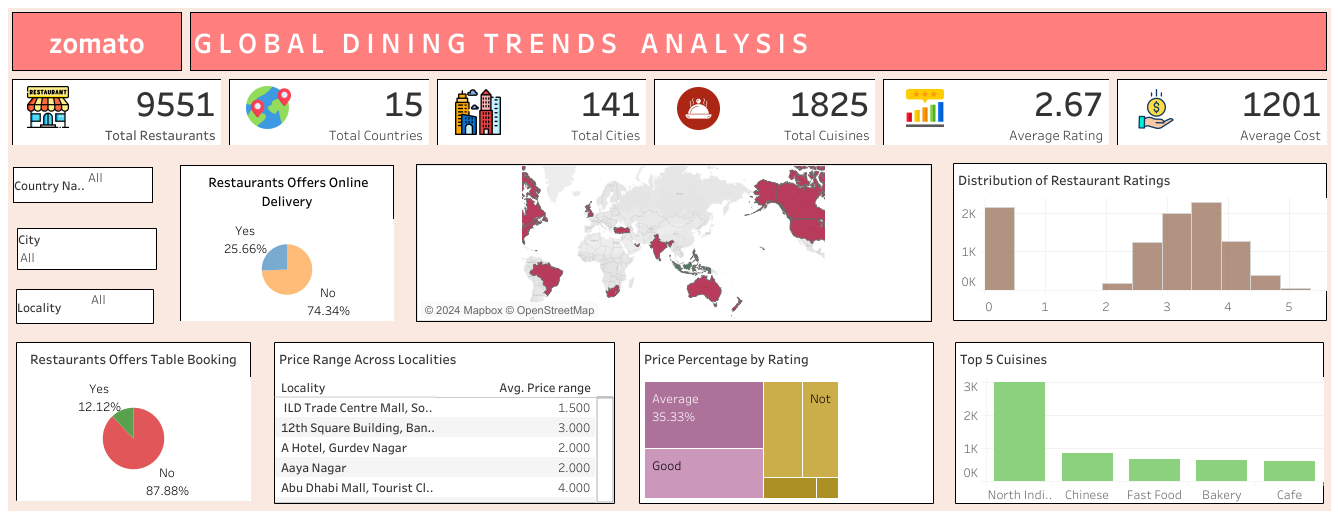

This screenshot's page, from the dashboard's own definition file:
{"tool":"tableau","page":{"name":"Dashboard 3","canvas":[1000,1000],"units":"permille","ordinal":0},"visuals":[{"type":"text","box":[6.9,13.5,132.7,130.1]},{"type":"text","box":[139.6,13.5,853.5,130.1]},{"type":"worksheet","title":"Restaurants","mark":"Automatic","box":[6.9,143.6,161.9,141.9]},{"type":"worksheet","title":" Country","mark":"Automatic","box":[168.8,143.6,155,141.9]},{"type":"worksheet","title":"City","mark":"Automatic","box":[323.8,143.6,161.9,141.9]},{"type":"worksheet","title":"Cuisines","mark":"Automatic","box":[485.7,143.6,170.6,141.9]},{"type":"worksheet","title":"Average Rating","mark":"Automatic","box":[656.3,143.6,174,141.9]},{"type":"worksheet","title":"Average Cost","mark":"Automatic","box":[830.2,143.6,162.8,141.9]},{"type":"image","param":"Image/country_10057995.png","box":[177.5,163.8,46.8,86.2]},{"type":"image","param":"Image/restaurant_6643359.png","box":[14.1,165.5,44.1,81.1]},{"type":"image","param":"Image/serving-dish_8560846.png","box":[496.1,167.2,51.1,82.8]},{"type":"image","param":"Image/rating-stars_5602715.png","box":[664.1,167.2,53.7,81.1]},{"type":"image","param":"Image/save-money_1611261.png","box":[839.8,170.6,47.6,77.7]},{"type":"image","param":"Image/architecture-city_1719666.png","box":[335.1,172.3,44.2,87.8]},{"type":"worksheet","title":"1. Distribution of Restaurant Ratings","mark":"Automatic","rows":["Aggregate rating"],"cols":["Aggregate rating (bin)"],"box":[709,305.7,284.8,320.9]},{"type":"worksheet","title":" Average Cost of two accross country","mark":"Automatic","box":[307.8,307.4,391.5,320.9]},{"type":"worksheet","title":"Number of Restaurants Offering Online Delivery","mark":"Pie","box":[131.4,310.8,165.8,315.9]},{"type":"filter","title":" Average Cost of two accross country","param":"[federated.16ae7d81lyk5vx13u2ml204whzto].[none:Country Name:nk]","box":[6.9,314.2,110,84.5]},{"type":"filter","title":"Variation of Price Range Across Different Localities","param":"[federated.16ae7d81lyk5vx13u2ml204whzto].[none:City:nk]","box":[9.5,432.4,110.8,96.3]},{"type":"filter","title":"Top 5 Cuisines Available Across Restaurants","param":"[federated.16ae7d81lyk5vx13u2ml204whzto].[none:Locality:nk]","box":[8.7,549,109.1,82.8]},{"type":"worksheet","title":"6. Comparison of Table Booking Availability","mark":"Pie","box":[8.7,650.3,181.8,322.6]},{"type":"worksheet","title":"Variation of Price Range Across Different Localities","mark":"Automatic","rows":["Locality"],"box":[201.9,650.3,260.1,327.7]},{"type":"worksheet","title":"Top 5 Cuisines Available Across Restaurants","mark":"Automatic","rows":["Restaurant Name"],"cols":["Individual Cuisines"],"box":[709.9,650.3,282.2,329.4]},{"type":"worksheet","title":"Rating","mark":"Automatic","box":[474.4,652,225.8,327.7]}]}

Visuals, with their boxes on the dashboard's canvas, which has no fixed pixel size, in thousandths of its width and height (x1, y1, x2, y2). These are canvas units, not pixel positions in the 1338x518 screenshot, which may show the page scaled, cropped or inside an application window:
text: <box>7,14,140,144</box>
text: <box>140,14,993,144</box>
"Restaurants" worksheet: <box>7,144,169,286</box>
" Country" worksheet: <box>169,144,324,286</box>
"City" worksheet: <box>324,144,486,286</box>
"Cuisines" worksheet: <box>486,144,656,286</box>
"Average Rating" worksheet: <box>656,144,830,286</box>
"Average Cost" worksheet: <box>830,144,993,286</box>
image: <box>178,164,224,250</box>
image: <box>14,166,58,247</box>
image: <box>496,167,547,250</box>
image: <box>664,167,718,248</box>
image: <box>840,171,887,248</box>
image: <box>335,172,379,260</box>
"1. Distribution of Restaurant Ratings" worksheet: <box>709,306,994,627</box>
" Average Cost of two accross country" worksheet: <box>308,307,699,628</box>
"Number of Restaurants Offering Online Delivery" worksheet (Pie marks): <box>131,311,297,627</box>
" Average Cost of two accross country" filter: <box>7,314,117,399</box>
"Variation of Price Range Across Different Localities" filter: <box>10,432,120,529</box>
"Top 5 Cuisines Available Across Restaurants" filter: <box>9,549,118,632</box>
"6. Comparison of Table Booking Availability" worksheet (Pie marks): <box>9,650,190,973</box>
"Variation of Price Range Across Different Localities" worksheet: <box>202,650,462,978</box>
"Top 5 Cuisines Available Across Restaurants" worksheet: <box>710,650,992,980</box>
"Rating" worksheet: <box>474,652,700,980</box>
